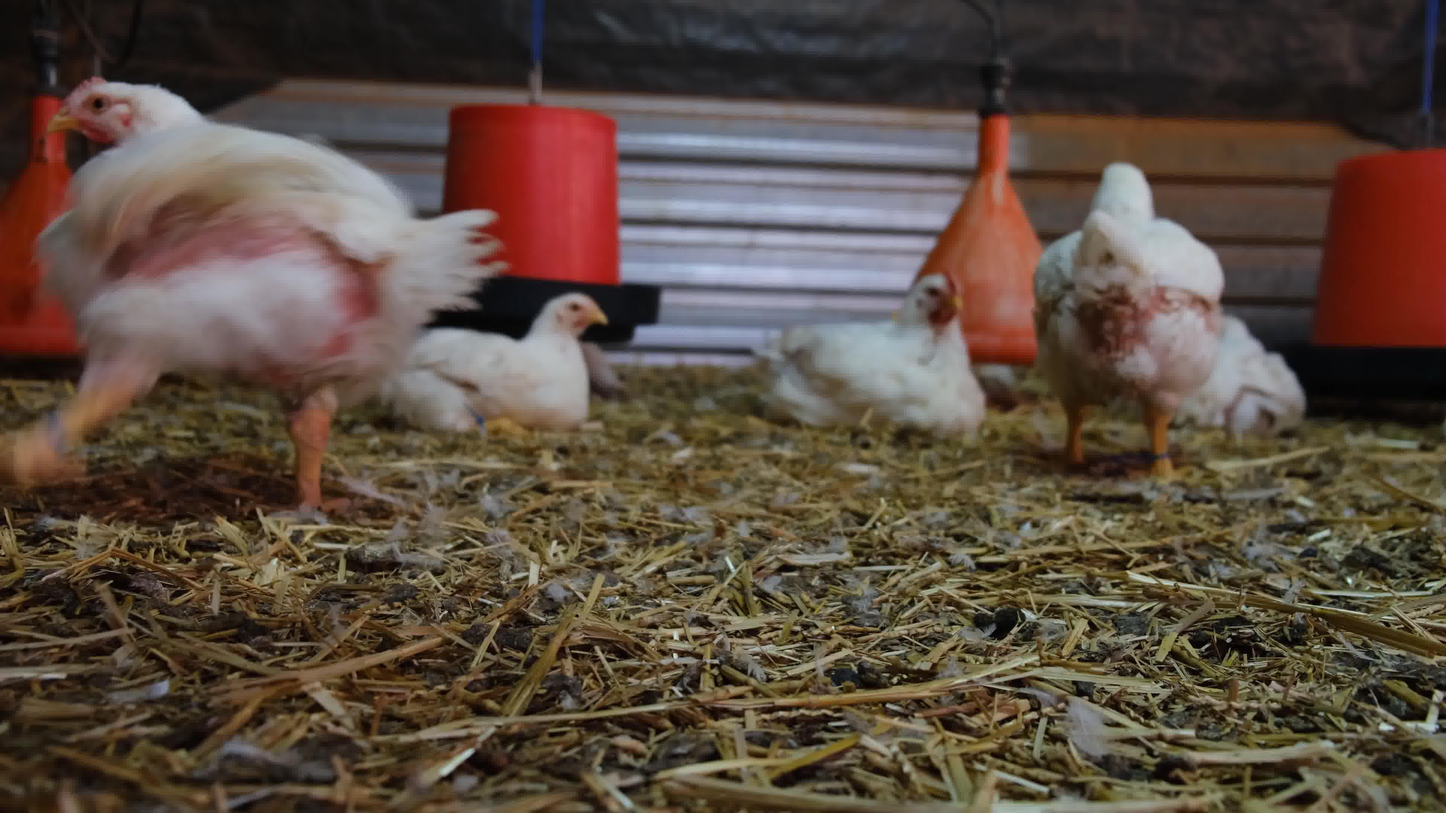AbNormal: (754, 271, 987, 434), (381, 290, 610, 429), (1167, 313, 1311, 431)
Normal: (2, 80, 500, 518), (1036, 158, 1222, 480)
